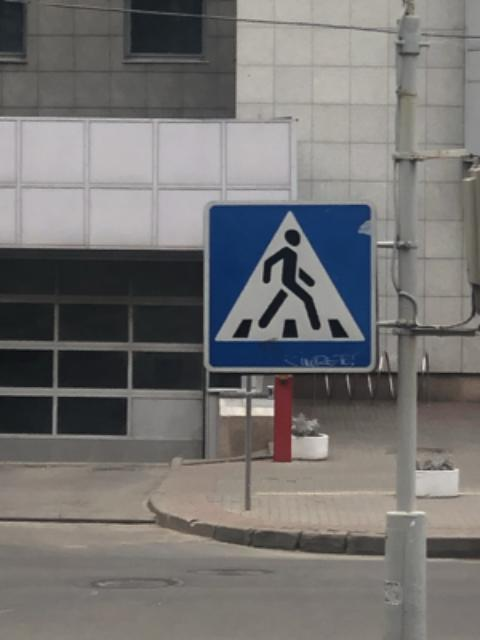crosswalk-sign: (202, 199, 379, 375)
